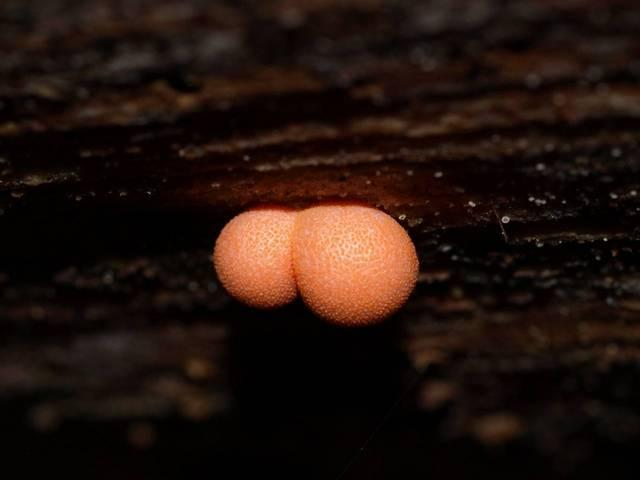poisonous_mushroom: (211, 199, 420, 327), (211, 202, 297, 309)
